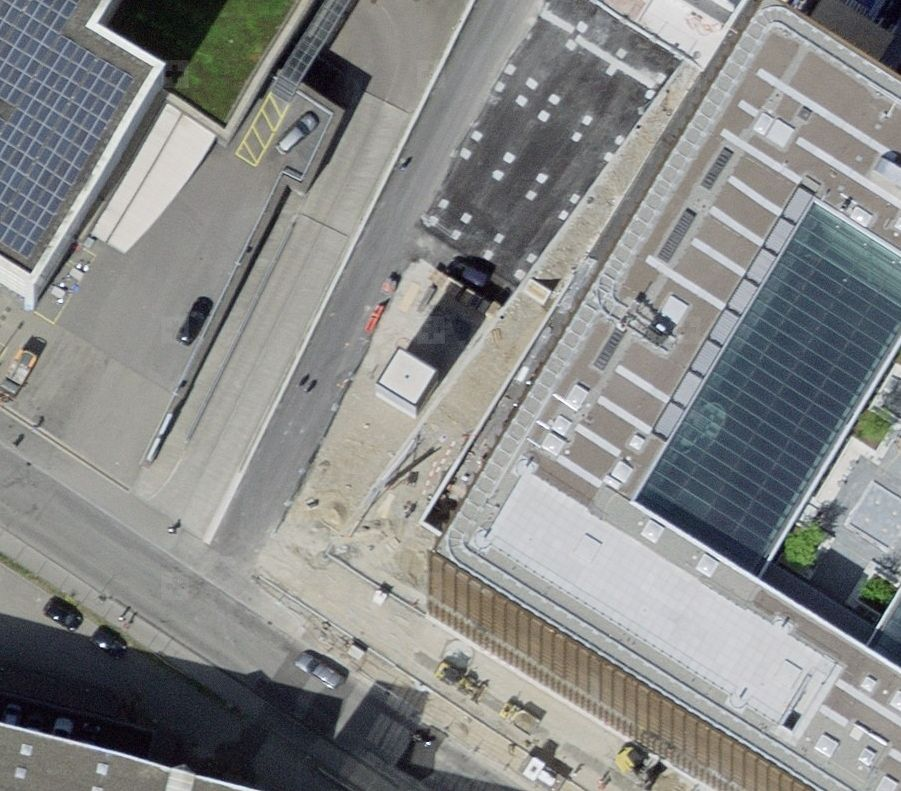solar: (1, 1, 133, 258)
